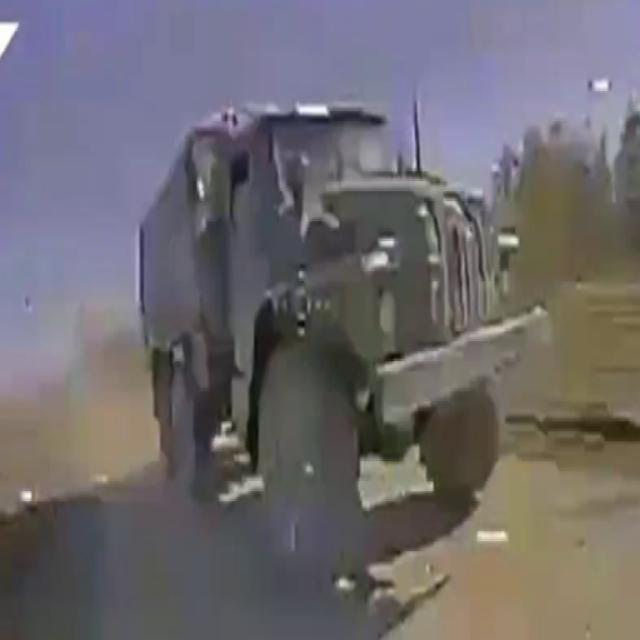TRUCK: (126, 89, 552, 573)
